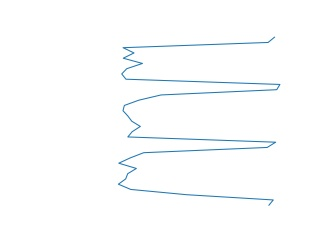majorRiverChannelBar: (115, 37, 284, 206)
